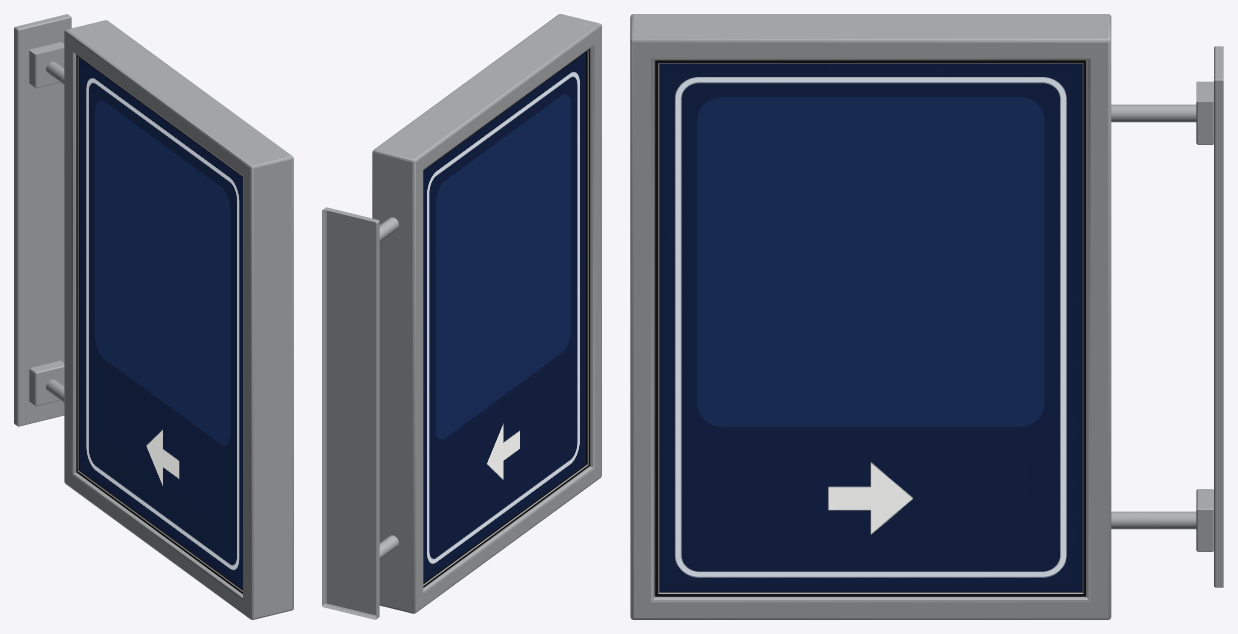
Rendered from gteki_sign_blade_navy.glb.
The picture shows the model from 3 angles, left to right: view 1: azimuth 30°, elevation 25°; view 2: azimuth 150°, elevation 25°; view 3: azimuth 270°, elevation 25°; orthographic projection. The views are drawn at different scales.
Visible parts, largest first — view 1: VIS_faces, VIS_frame, VIS_mount; view 2: VIS_faces, VIS_frame, VIS_mount; view 3: VIS_faces, VIS_frame, VIS_mount.
Boxes of the visible parts, <box> form: VIS_faces: <box>80,58,242,588</box>; VIS_frame: <box>64,20,293,619</box>; VIS_mount: <box>14,14,71,426</box>; VIS_faces: <box>423,52,585,582</box>; VIS_frame: <box>372,14,601,613</box>; VIS_mount: <box>322,207,398,619</box>; VIS_faces: <box>659,63,1082,591</box>; VIS_frame: <box>630,14,1111,619</box>; VIS_mount: <box>1111,46,1223,587</box>.
Size of what is drawn, in the model's own units: 0.1 by 0.8 by 0.74.
Materials: 4 (2 with a texture image).
